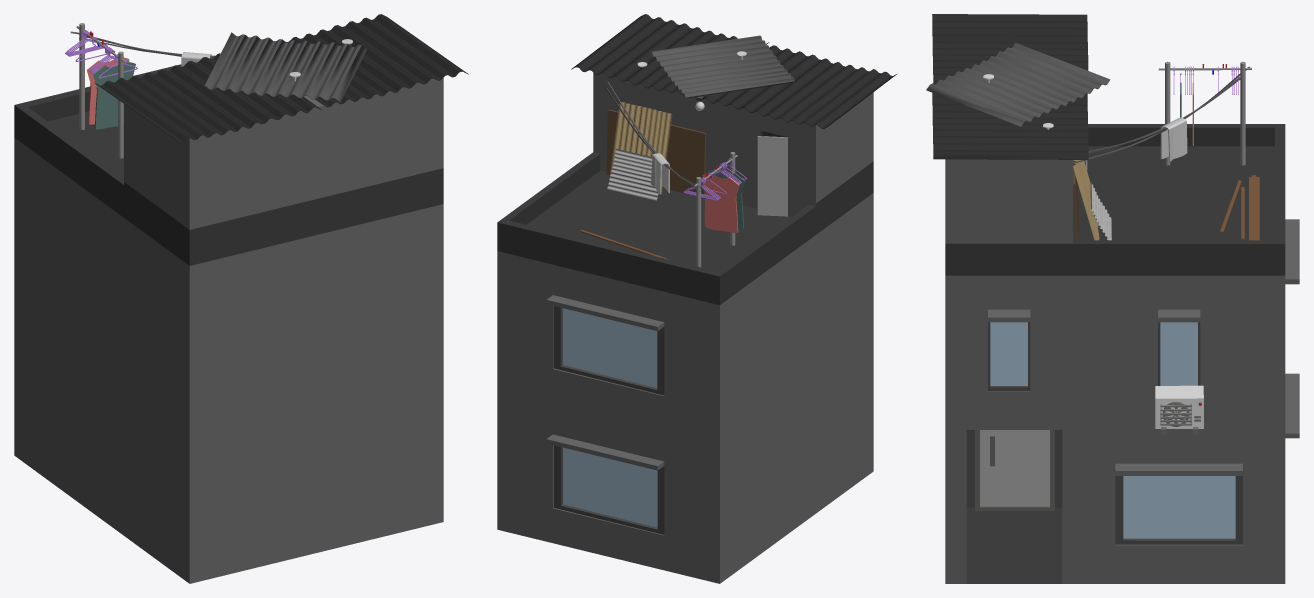
File: BAHAY 2.fbx
3 views of the same model, side by side, from view 1: azimuth 30°, elevation 25°; view 2: azimuth 150°, elevation 25°; view 3: azimuth 270°, elevation 25° (orthographic). The views are drawn at different scales.
Visible parts, largest first — view 1: BAHAYMISMO, YERO, HANGER.005, SAMPAYAN; view 2: BAHAYMISMO, YERO, WINDOW.001, KAHOY TABI, HANGER.005, LITTLE DOOR, SAMPAYAN, TOWEL BIG.001; view 3: BAHAYMISMO, YERO, DOOR.001, WINDOW.001, AIRCON.001, KAHOY TABI, SAMPAYAN, TOWEL BIG.001, WIRES, HANGER.005.
Boxes of the visible parts, x1=… form: BAHAYMISMO: x1=14, y1=64, x2=443, y2=583; YERO: x1=95, y1=14, x2=468, y2=143; HANGER.005: x1=65, y1=30, x2=137, y2=129; SAMPAYAN: x1=76, y1=23, x2=126, y2=158; BAHAYMISMO: x1=497, y1=73, x2=873, y2=583; YERO: x1=571, y1=14, x2=897, y2=200; WINDOW.001: x1=553, y1=306, x2=664, y2=534; KAHOY TABI: x1=580, y1=109, x2=705, y2=259; HANGER.005: x1=683, y1=158, x2=746, y2=232; LITTLE DOOR: x1=757, y1=136, x2=787, y2=216; SAMPAYAN: x1=694, y1=152, x2=737, y2=267; TOWEL BIG.001: x1=651, y1=153, x2=669, y2=194; BAHAYMISMO: x1=945, y1=124, x2=1299, y2=583; YERO: x1=926, y1=14, x2=1111, y2=240; DOOR.001: x1=975, y1=430, x2=1054, y2=510; WINDOW.001: x1=988, y1=322, x2=1242, y2=544; AIRCON.001: x1=1155, y1=385, x2=1203, y2=428; KAHOY TABI: x1=1073, y1=160, x2=1259, y2=240; SAMPAYAN: x1=1158, y1=61, x2=1251, y2=165; TOWEL BIG.001: x1=1160, y1=117, x2=1187, y2=161; WIRES: x1=1073, y1=67, x2=1249, y2=163; HANGER.005: x1=1173, y1=66, x2=1238, y2=145.
Bounding box in the file's own units: 1380 × 1957 × 1479.
